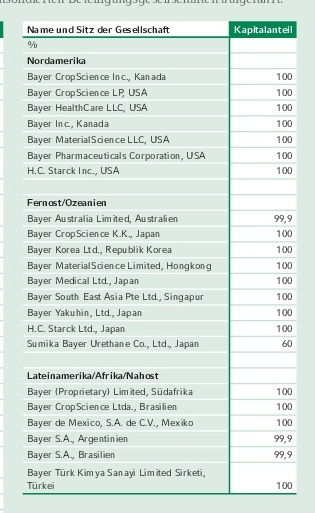table: (0, 0, 315, 513)
